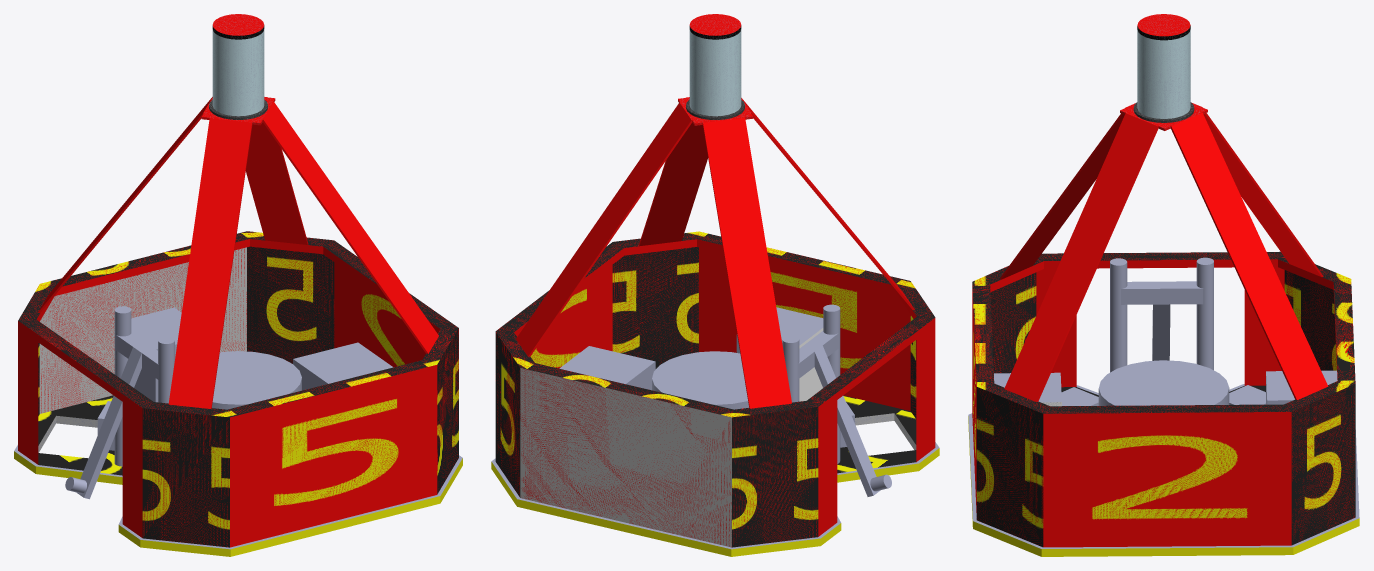
File: rival_frame2.dae
3 renders of one model, left to right at view 1: azimuth 30°, elevation 25°; view 2: azimuth 150°, elevation 25°; view 3: azimuth 270°, elevation 25°, orthographic. The views are drawn at different scales.
Visible parts, largest first — view 1: SketchUp (×12), 支撑4, 支撑, 摄像头 (×2), 射门 (×3), 支撑2, 支撑3; view 2: SketchUp (×13), 支撑3, 支撑2, 摄像头 (×2), 支撑, 射门 (×3), 支撑4; view 3: SketchUp (×13), 支撑, 支撑2, 射门 (×2), 摄像头 (×2), 支撑4, 支撑3.
Part boxes in pixels (x1,y1,x2,y2): SketchUp (×12): [14, 231, 462, 556]; 支撑4: [168, 118, 252, 408]; 支撑: [262, 101, 438, 353]; 摄像头 (×2): [212, 14, 264, 116]; 射门 (×3): [77, 306, 174, 499]; 支撑2: [246, 122, 308, 244]; 支撑3: [38, 97, 212, 312]; SketchUp (×13): [491, 231, 939, 556]; 支撑3: [702, 117, 791, 408]; 支撑2: [516, 102, 692, 356]; 摄像头 (×2): [689, 14, 741, 116]; 支撑: [639, 97, 707, 246]; 射门 (×3): [782, 304, 880, 496]; 支撑4: [741, 98, 914, 309]; SketchUp (×13): [968, 251, 1359, 556]; 支撑: [1004, 113, 1158, 402]; 支撑2: [1170, 113, 1328, 399]; 射门 (×2): [1110, 257, 1213, 372]; 摄像头 (×2): [1137, 14, 1190, 118]; 支撑4: [1000, 113, 1124, 279]; 支撑3: [1202, 107, 1323, 276].
Size of the model in its own units: 18.18 by 17.74 by 22.48.
